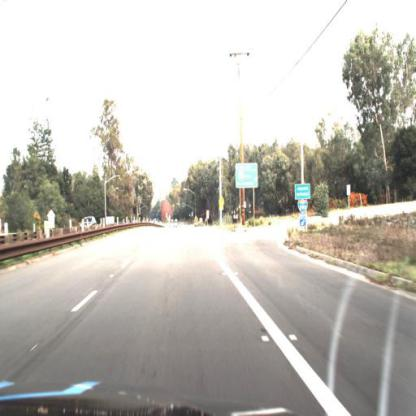car: (80, 213, 103, 234), (77, 216, 98, 231)
